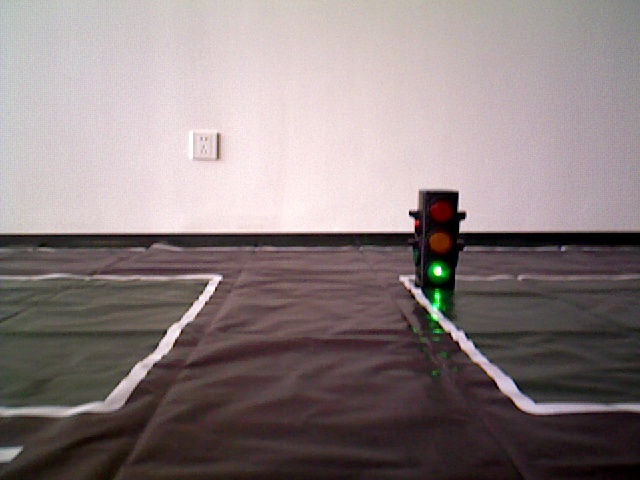green: (418, 190, 457, 282)
